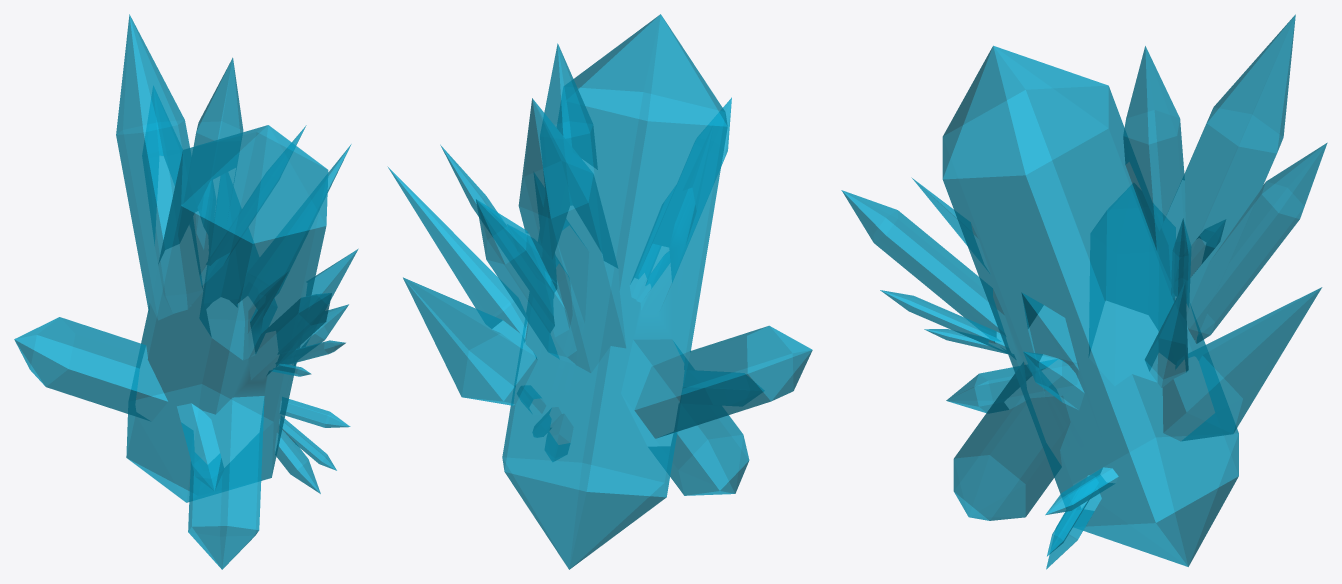
Rendered from testciystal2.fbx.
3 views of the same model, side by side, from view 1: azimuth 30°, elevation 25°; view 2: azimuth 150°, elevation 25°; view 3: azimuth 270°, elevation 25° (orthographic). The views are drawn at different scales.
Visible parts, largest first — view 1: pCone5; view 2: pCone5; view 3: pCone5.
Part boxes in pixels (x1,y1,x2,y2): pCone5: [14, 14, 358, 569]; pCone5: [387, 14, 812, 569]; pCone5: [841, 14, 1327, 569].
Size of the model in its own units: 488 by 595 by 480.
